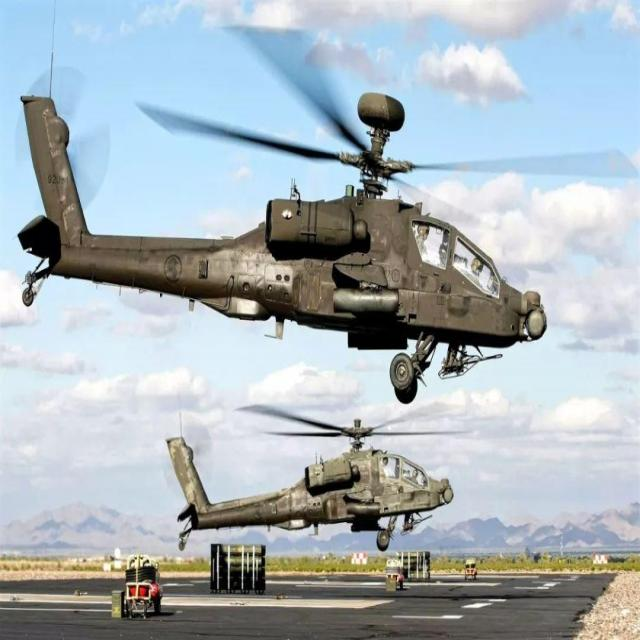MIL_HELO: (15, 24, 638, 408), (157, 389, 474, 557)
